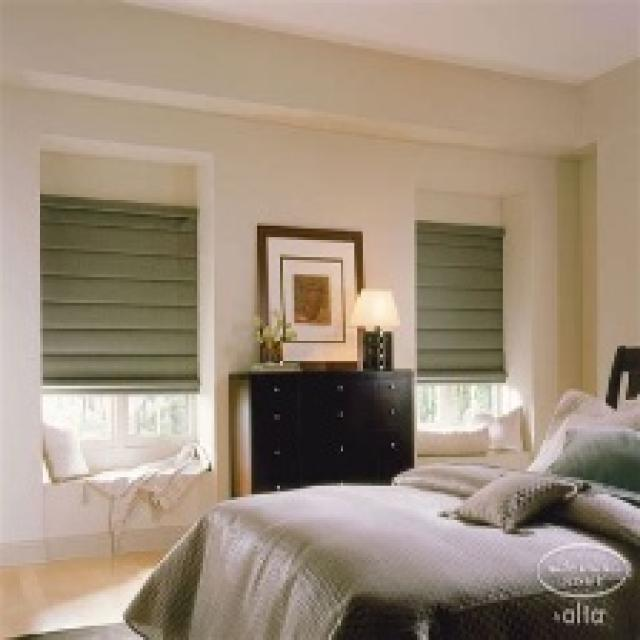Bed: (123, 343, 637, 637)
